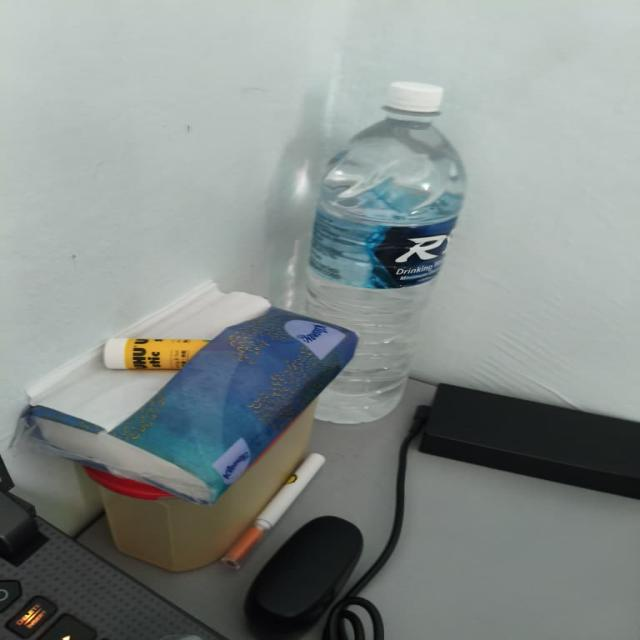glue: (103, 338, 209, 369)
